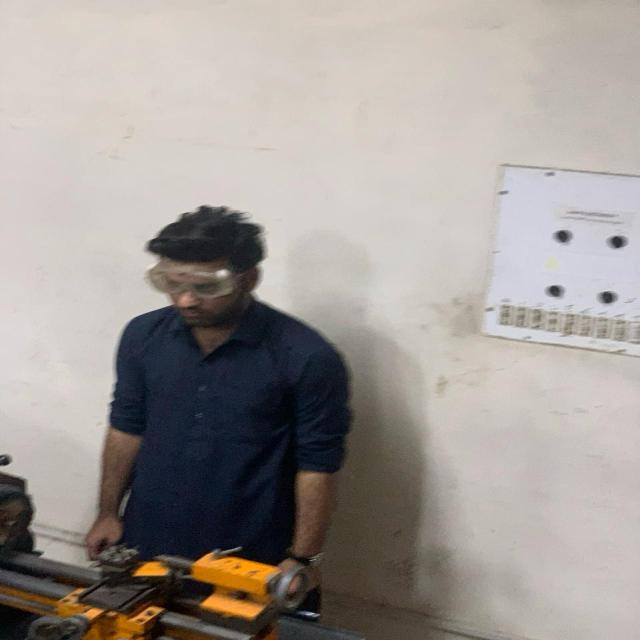googles: (142, 260, 238, 300)
